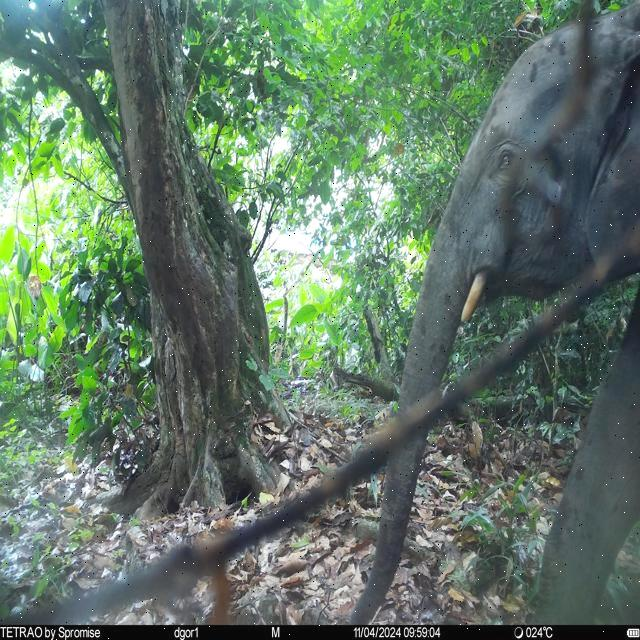ear: (588, 57, 640, 285)
elephant: (350, 0, 640, 626)
tusk: (461, 266, 488, 328)
